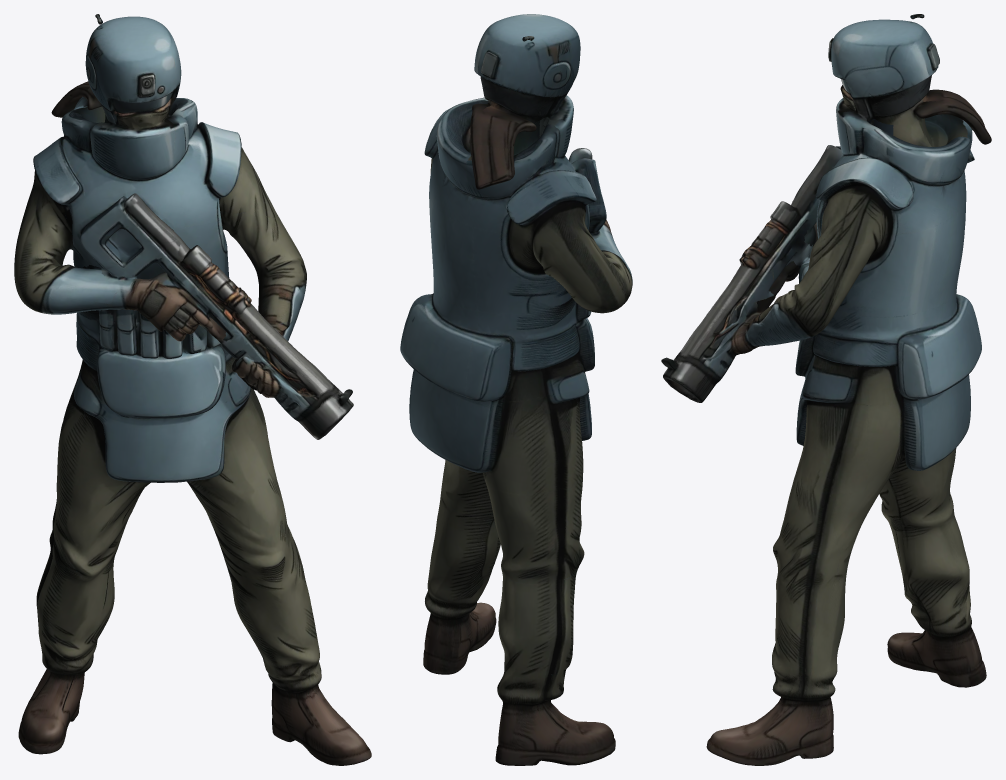
3 renders of one model, left to right at view 1: azimuth 30°, elevation 25°; view 2: azimuth 150°, elevation 25°; view 3: azimuth 270°, elevation 25°, orthographic. The views are drawn at different scales.
Parts seen in each view (by area): view 1: tmpsmdudpqyobj; view 2: tmpsmdudpqyobj; view 3: tmpsmdudpqyobj.
Boxes of the visible parts, left/top/right/bottom form: tmpsmdudpqyobj: left=14, top=14, right=371, bottom=765; tmpsmdudpqyobj: left=400, top=14, right=632, bottom=765; tmpsmdudpqyobj: left=661, top=14, right=991, bottom=765.
Bounding box in the file's own units: 0.3844 × 1 × 0.4447.
1 material, 1 textured.
